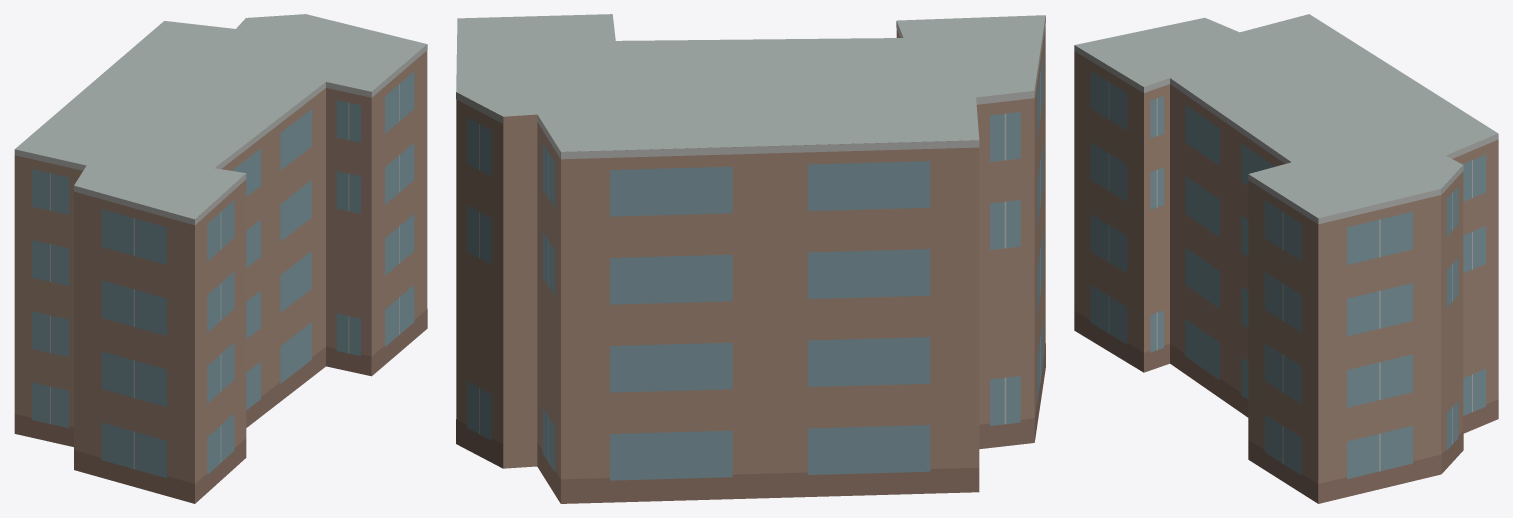
The model's file is survey-upis-32576809.glb.
3 renders of one model, left to right at view 1: azimuth 30°, elevation 25°; view 2: azimuth 150°, elevation 25°; view 3: azimuth 270°, elevation 25°, orthographic. The views are drawn at different scales.
Parts seen in each view (by area): view 1: survey-upis-32576809.tmp; view 2: survey-upis-32576809.tmp; view 3: survey-upis-32576809.tmp.
Boxes of the visible parts, <box> form: survey-upis-32576809.tmp: <box>14,14,427,503</box>; survey-upis-32576809.tmp: <box>456,14,1045,503</box>; survey-upis-32576809.tmp: <box>1074,14,1498,503</box>.
Bounding box in the file's own units: 17.97 × 11.7 × 15.76.
